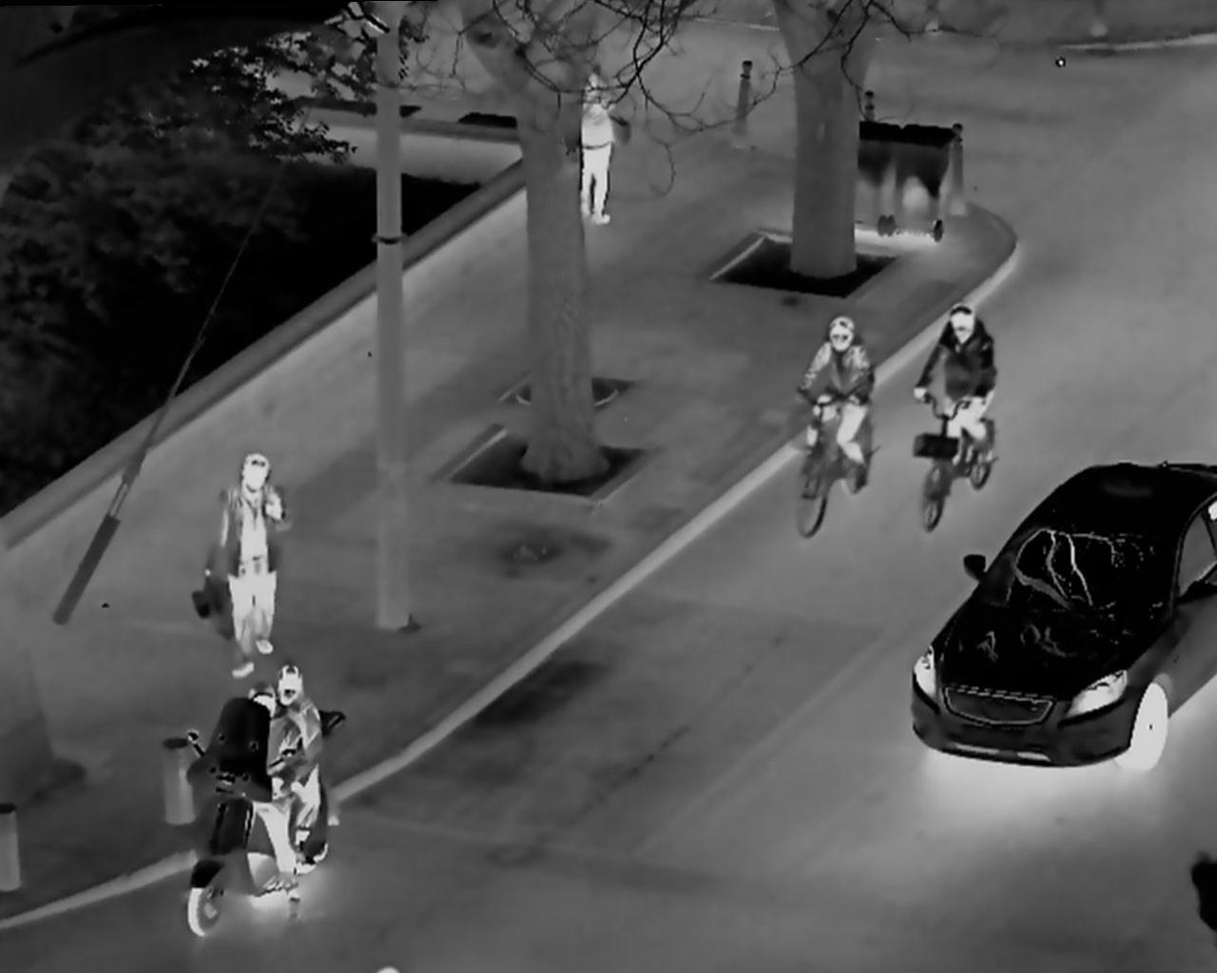person: (197, 442, 311, 676), (208, 688, 299, 919), (787, 304, 882, 519), (908, 296, 1006, 502), (563, 53, 641, 241), (261, 664, 323, 873)
